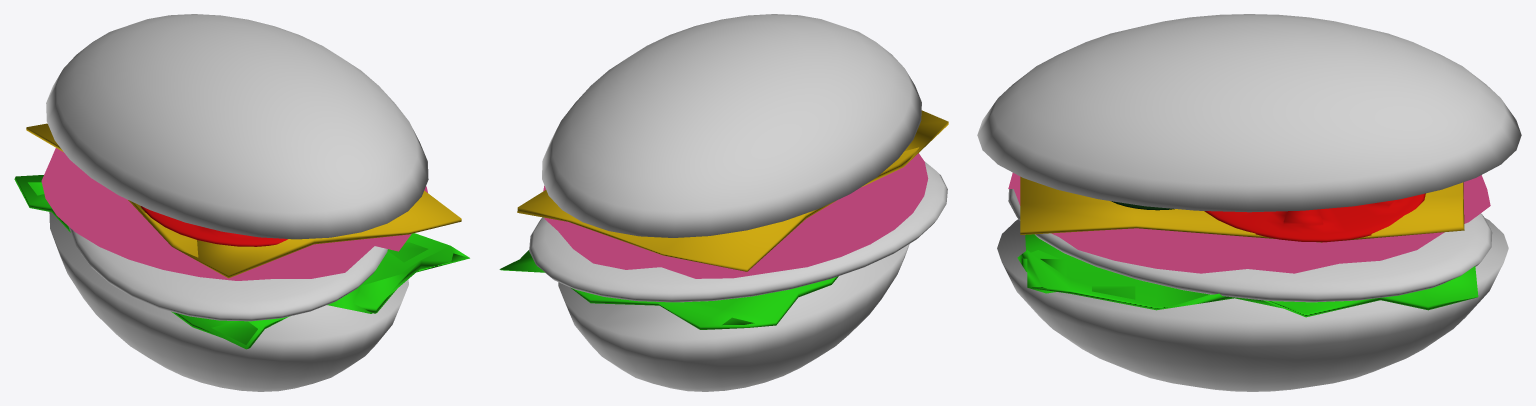
File: torta0.obj
3 renders of one model, left to right at view 1: azimuth 30°, elevation 25°; view 2: azimuth 150°, elevation 25°; view 3: azimuth 270°, elevation 25°, orthographic. The views are drawn at different scales.
Visible parts, largest first — view 1: Sphere; view 2: Sphere; view 3: Sphere.
Part boxes in pixels (<box>): Sphere: <box>14,14,469,391</box>; Sphere: <box>499,14,948,391</box>; Sphere: <box>977,14,1521,391</box>.
Bounding box in the file's own units: 3.51 × 3.25 × 4.69.
